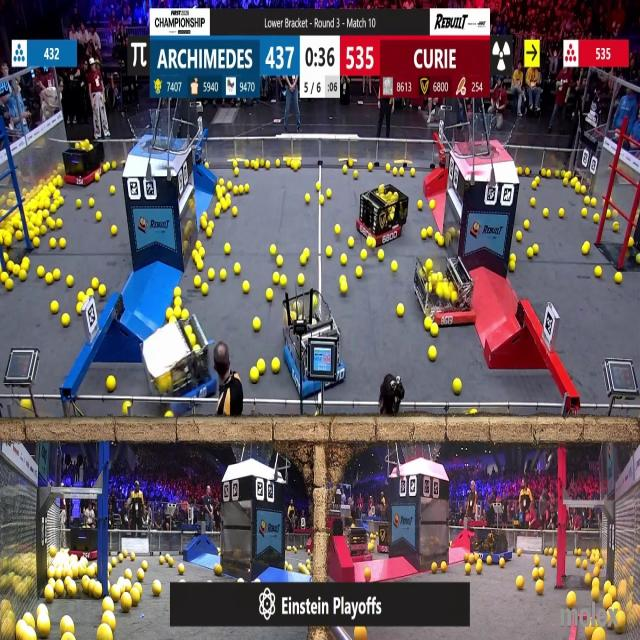ball_airborne: (354, 627, 366, 639)
ball_ground: (36, 619, 50, 639), (616, 614, 627, 635), (62, 618, 74, 634), (120, 596, 131, 612), (104, 614, 115, 630), (566, 593, 576, 609), (94, 583, 104, 599), (97, 627, 109, 640), (132, 590, 142, 605), (81, 577, 91, 592), (44, 588, 53, 603), (103, 598, 113, 611), (152, 582, 160, 597), (454, 379, 462, 394), (107, 377, 115, 392), (594, 630, 606, 640), (536, 582, 544, 596), (517, 575, 525, 589), (592, 588, 600, 602), (112, 588, 120, 602), (273, 358, 280, 373), (252, 318, 260, 331), (250, 370, 258, 383), (603, 596, 611, 609), (26, 616, 35, 627), (50, 302, 58, 314), (430, 323, 438, 335), (174, 308, 182, 320), (4, 236, 12, 248), (425, 260, 433, 272), (243, 281, 250, 294), (429, 347, 436, 360), (583, 242, 590, 255), (257, 360, 264, 373), (396, 305, 403, 318), (22, 398, 31, 408), (214, 564, 222, 575), (180, 309, 188, 320), (90, 566, 98, 577), (235, 264, 242, 276), (595, 267, 602, 279), (193, 276, 200, 288), (63, 314, 70, 326), (270, 244, 277, 256), (121, 404, 128, 416), (45, 273, 52, 285), (23, 257, 30, 269), (174, 296, 182, 306), (221, 200, 229, 210), (616, 273, 623, 284), (280, 276, 287, 287), (223, 243, 230, 254), (6, 280, 13, 291), (273, 274, 280, 285), (341, 283, 348, 294), (37, 268, 44, 279), (449, 229, 456, 240), (268, 288, 274, 300), (220, 270, 226, 282), (379, 249, 385, 261), (100, 284, 106, 296), (297, 274, 303, 286), (19, 270, 25, 282), (356, 267, 362, 279), (424, 318, 430, 330), (76, 304, 82, 316), (138, 568, 144, 580), (420, 231, 428, 240), (166, 306, 172, 318), (60, 239, 67, 249), (67, 276, 74, 286), (49, 239, 56, 249), (202, 284, 209, 294), (93, 279, 100, 289), (366, 238, 373, 248), (341, 254, 348, 264), (54, 270, 61, 280), (6, 264, 13, 274), (77, 291, 84, 301), (507, 263, 514, 273), (195, 262, 202, 272), (363, 568, 370, 578), (592, 576, 599, 586), (208, 270, 214, 281), (325, 246, 331, 257), (277, 255, 283, 266), (532, 568, 538, 579), (535, 243, 541, 254), (538, 567, 544, 578), (475, 562, 481, 573), (439, 237, 445, 248), (292, 159, 298, 170), (29, 231, 36, 240), (251, 161, 258, 170), (391, 263, 397, 273), (34, 238, 40, 248), (110, 225, 116, 235), (348, 238, 354, 248), (178, 564, 184, 574), (517, 232, 523, 242), (442, 562, 448, 572), (464, 564, 470, 574), (528, 248, 534, 258), (1, 272, 7, 282), (299, 254, 305, 264), (206, 230, 212, 240), (586, 574, 592, 584), (426, 229, 432, 239), (429, 201, 435, 211), (574, 183, 580, 193), (594, 566, 600, 576), (63, 634, 73, 640), (46, 218, 52, 228), (34, 226, 40, 236), (58, 177, 64, 187), (604, 584, 610, 594), (611, 222, 618, 230), (582, 185, 589, 193), (524, 169, 532, 176), (361, 249, 366, 260), (524, 220, 530, 229), (76, 200, 82, 209), (175, 287, 181, 296), (304, 248, 310, 257), (591, 199, 597, 208), (110, 185, 116, 194), (89, 288, 95, 297), (194, 241, 200, 250), (57, 219, 63, 228), (142, 561, 148, 570), (15, 232, 21, 241), (583, 208, 589, 217), (40, 225, 46, 234), (606, 210, 612, 219), (59, 198, 65, 207), (534, 557, 540, 566), (242, 187, 248, 196), (570, 178, 576, 187), (123, 569, 129, 578), (297, 563, 303, 572), (559, 208, 564, 218), (336, 224, 341, 234), (542, 208, 547, 218), (306, 192, 311, 202), (326, 188, 331, 198), (431, 563, 436, 573), (215, 208, 220, 218), (202, 219, 207, 229), (90, 200, 96, 208), (316, 182, 322, 190), (594, 214, 600, 222), (530, 199, 536, 207), (628, 239, 634, 247), (585, 198, 591, 206), (563, 178, 569, 186), (200, 249, 206, 257), (545, 170, 551, 178), (244, 161, 250, 169), (266, 162, 272, 170), (167, 412, 173, 420), (341, 276, 347, 284), (348, 161, 354, 169), (468, 411, 476, 417), (97, 212, 102, 221), (418, 201, 423, 210), (4, 252, 9, 261), (96, 173, 101, 182), (319, 197, 324, 206), (343, 167, 349, 174), (392, 169, 398, 176), (511, 253, 517, 260), (224, 191, 230, 198), (234, 207, 238, 217), (636, 254, 640, 264), (353, 171, 358, 179), (532, 182, 537, 190), (552, 560, 557, 568), (516, 166, 521, 174), (226, 181, 231, 189), (191, 250, 196, 258), (161, 556, 166, 564), (108, 564, 113, 572), (584, 560, 589, 568), (208, 220, 213, 228), (556, 170, 561, 178), (234, 185, 239, 193), (500, 559, 504, 568), (170, 558, 174, 567), (235, 169, 240, 176), (386, 166, 391, 173), (219, 178, 224, 185), (205, 163, 210, 170), (412, 169, 416, 177), (464, 554, 468, 562), (277, 161, 281, 169), (112, 162, 116, 170), (399, 169, 403, 177), (576, 560, 580, 568), (367, 164, 371, 172), (488, 558, 492, 566), (132, 554, 136, 562), (535, 176, 539, 184), (104, 165, 108, 173), (306, 568, 310, 576), (515, 552, 520, 558), (216, 185, 220, 192), (234, 162, 238, 169), (255, 577, 259, 583), (293, 548, 297, 554), (218, 547, 221, 553)
goal: (461, 118, 517, 158), (129, 115, 186, 151)
robot_blue: (282, 290, 344, 400), (156, 316, 220, 415), (474, 528, 512, 565)
robot_red: (412, 258, 472, 328), (358, 183, 408, 244), (65, 138, 104, 185), (67, 521, 97, 557), (344, 520, 370, 558), (376, 522, 391, 552)
